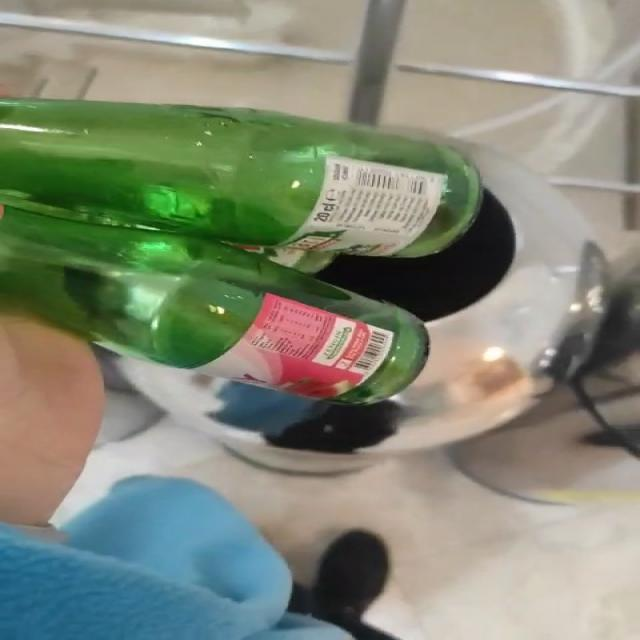Glass: (0, 99, 481, 404)
